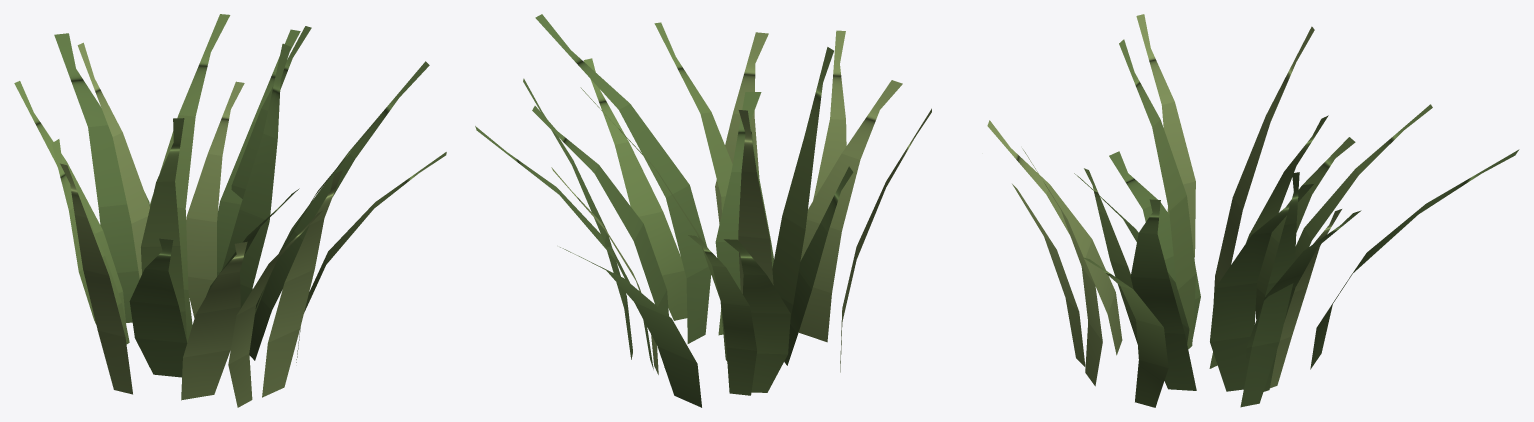
File: grand-river-sculpted-ground-detail.glb
3 views of the same model, side by side, from view 1: azimuth 30°, elevation 25°; view 2: azimuth 150°, elevation 25°; view 3: azimuth 270°, elevation 25° (orthographic). The views are drawn at different scales.
Visible parts, largest first — view 1: grand-river-3d-ground-detail; view 2: grand-river-3d-ground-detail; view 3: grand-river-3d-ground-detail.
Boxes of the visible parts, x1,y1,x2,y2 form: grand-river-3d-ground-detail: [14, 14, 446, 407]; grand-river-3d-ground-detail: [475, 14, 931, 407]; grand-river-3d-ground-detail: [987, 14, 1519, 407].
Size of the model in its own units: 0.4186 by 0.3127 by 0.516.
